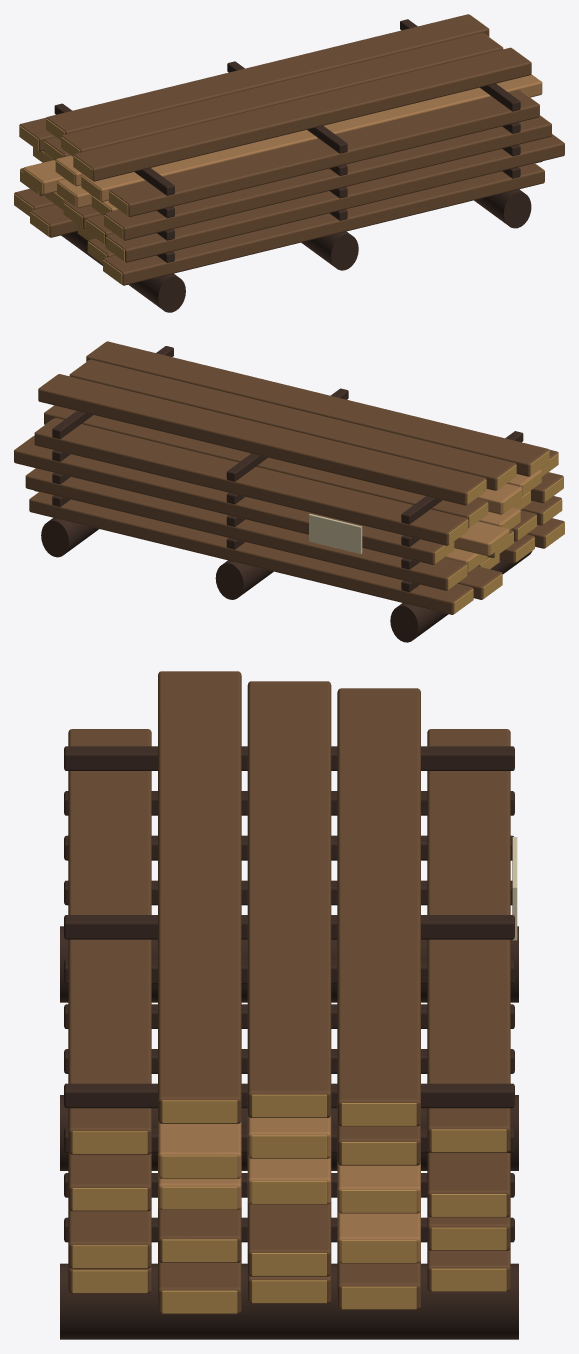
File: detail_lumber_pile.glb
3 views of the same model, one above another, from view 1: azimuth 30°, elevation 25°; view 2: azimuth 150°, elevation 25°; view 3: azimuth 270°, elevation 25° (orthographic). The views are drawn at different scales.
Parts seen in each view (by area): view 1: wood; view 2: wood; view 3: wood.
Part boxes in pixels (x1,y1,x2,y2): wood: (14,14,564,312); wood: (14,341,564,642); wood: (60,671,518,1339).
Size of the model in its own units: 2.8 by 0.8 by 1.2.
